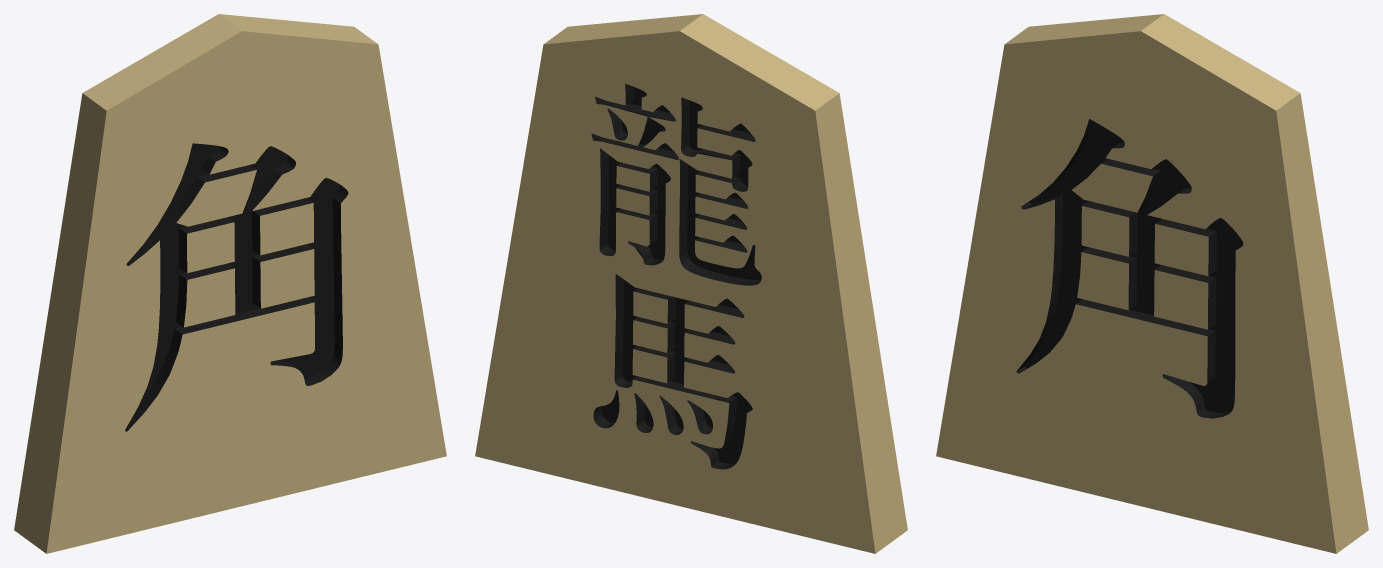
3 renders of one model, left to right at view 1: azimuth 30°, elevation 25°; view 2: azimuth 150°, elevation 25°; view 3: azimuth 330°, elevation 25°, orthographic.
Parts seen in each view (by area): view 1: kaku; view 2: kaku; view 3: kaku.
Part boxes in pixels (x1=…): kaku: x1=14, y1=14, x2=446, y2=553; kaku: x1=475, y1=14, x2=907, y2=553; kaku: x1=936, y1=14, x2=1368, y2=553.
Size of the model in its own units: 0.0285 by 0.032 by 0.004.
